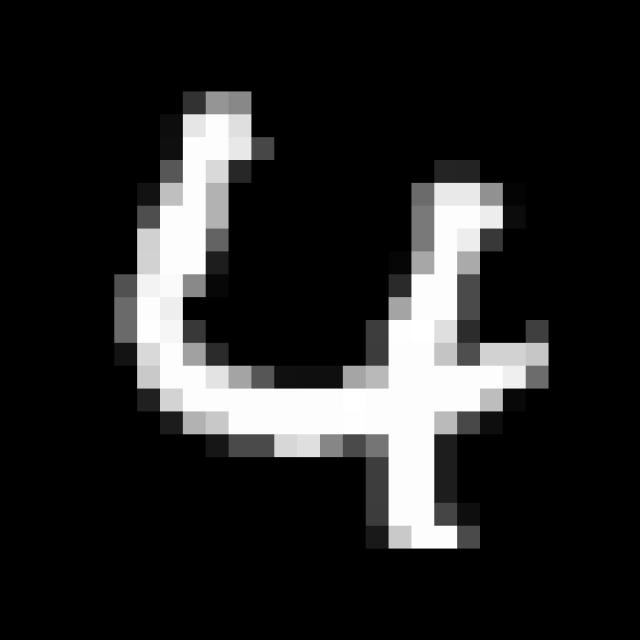four -4-: (96, 71, 570, 569)
